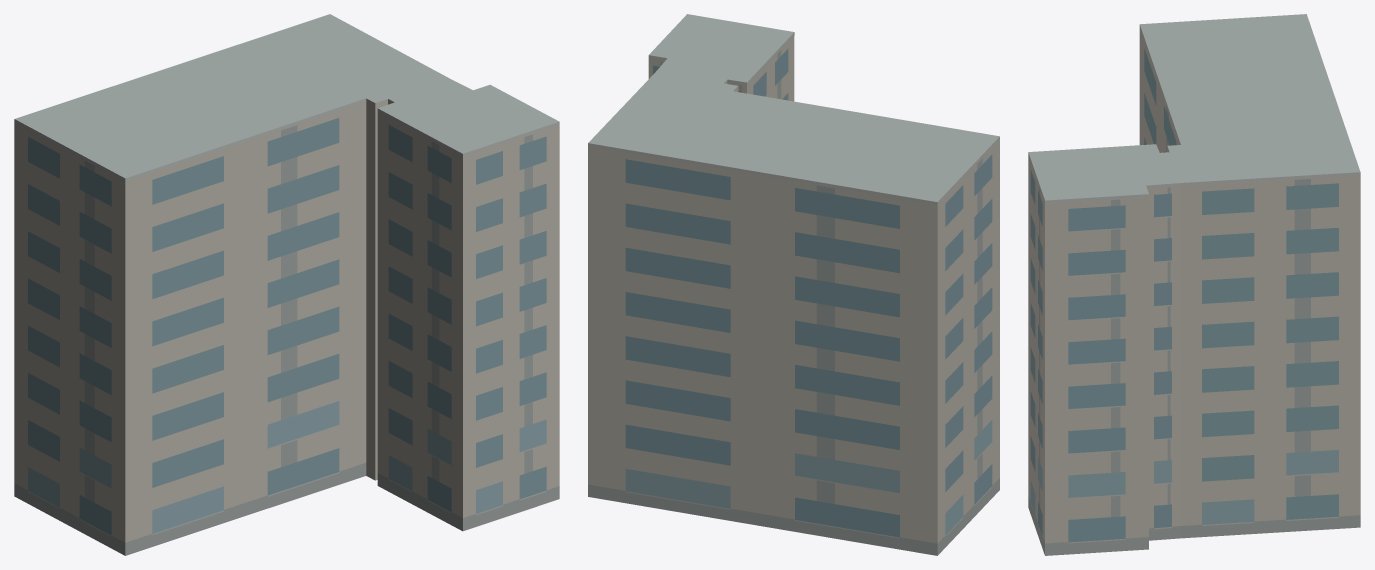
File: survey-upis-32699394.glb
3 views of the same model, side by side, from view 1: azimuth 30°, elevation 25°; view 2: azimuth 150°, elevation 25°; view 3: azimuth 270°, elevation 25° (orthographic). The views are drawn at different scales.
Visible parts, largest first — view 1: survey-upis-32699394.tmp; view 2: survey-upis-32699394.tmp; view 3: survey-upis-32699394.tmp.
Boxes of the visible parts, bbox=[...] form: survey-upis-32699394.tmp: bbox=[14, 14, 559, 555]; survey-upis-32699394.tmp: bbox=[588, 14, 999, 555]; survey-upis-32699394.tmp: bbox=[1028, 14, 1360, 555].
Size of the model in its own units: 26.81 by 23.8 by 20.18.
